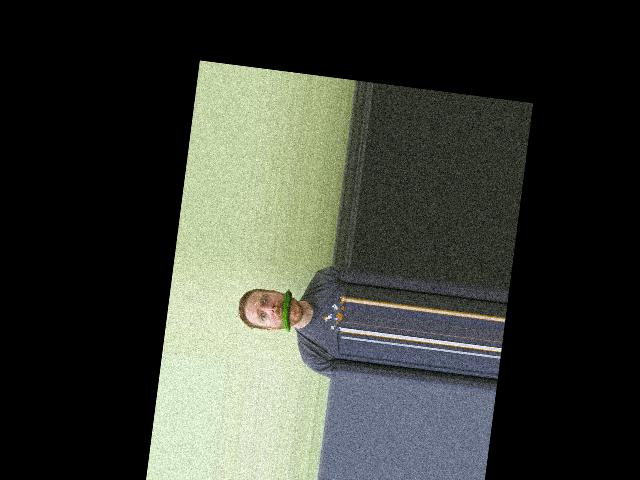cucumber: (279, 288, 295, 332)
